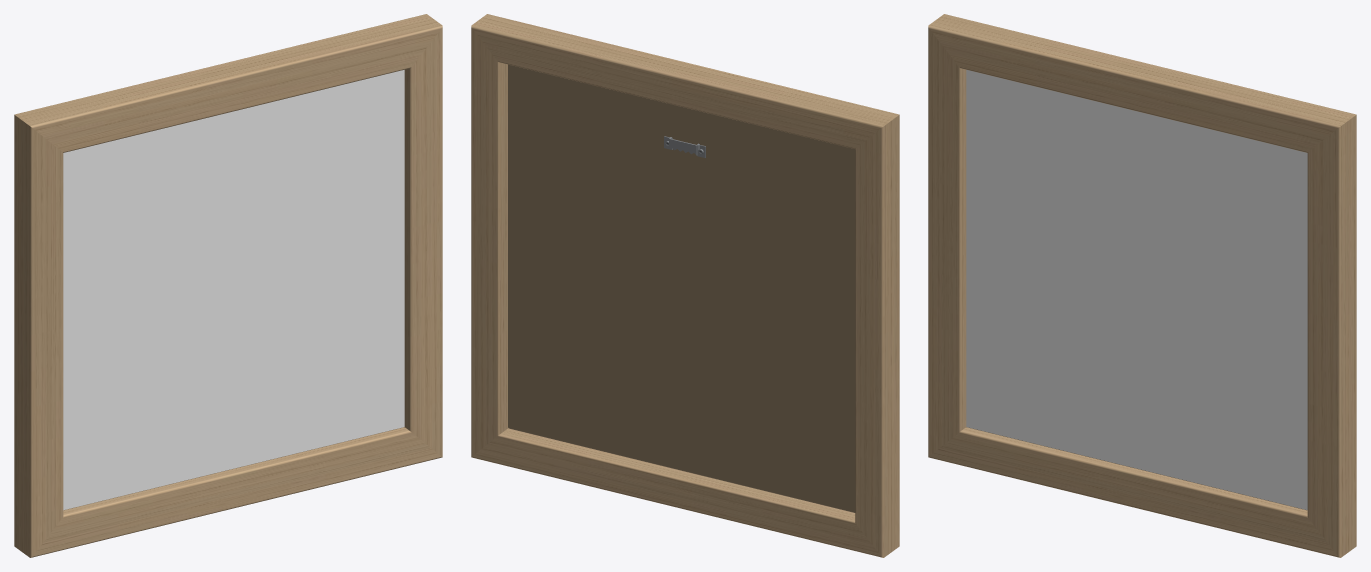
Rendered from oak_frame_square.glb.
3 views of the same model, side by side, from view 1: azimuth 30°, elevation 25°; view 2: azimuth 150°, elevation 25°; view 3: azimuth 330°, elevation 25° (orthographic).
Parts seen in each view (by area): view 1: Photo_Surface, Frame_Body; view 2: Back_Panel, Frame_Body; view 3: Photo_Surface, Frame_Body.
Boxes of the visible parts, bbox=[...] form: Photo_Surface: bbox=[63, 70, 404, 510]; Frame_Body: bbox=[14, 14, 442, 557]; Back_Panel: bbox=[508, 64, 855, 512]; Frame_Body: bbox=[471, 14, 899, 557]; Photo_Surface: bbox=[966, 70, 1307, 510]; Frame_Body: bbox=[928, 14, 1356, 557].
Bounding box in the file's own units: 0.298 × 0.298 × 0.022.
5 materials, 1 textured.
